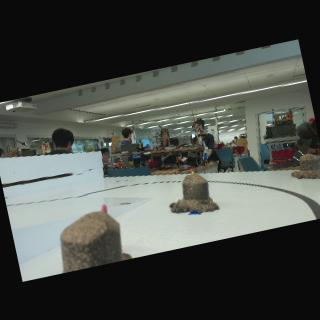teletubby: (101, 204, 107, 213), (191, 171, 194, 173)
